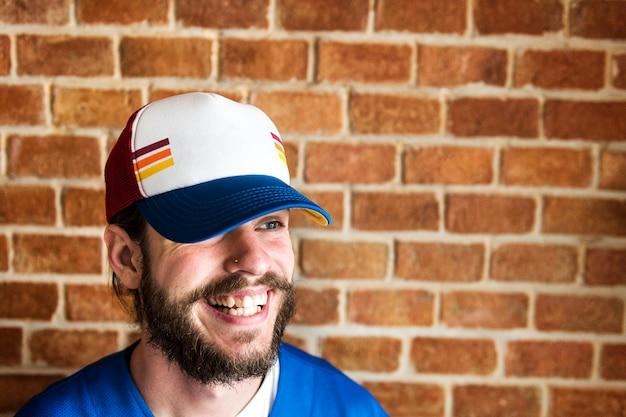cap: (100, 91, 332, 237)
